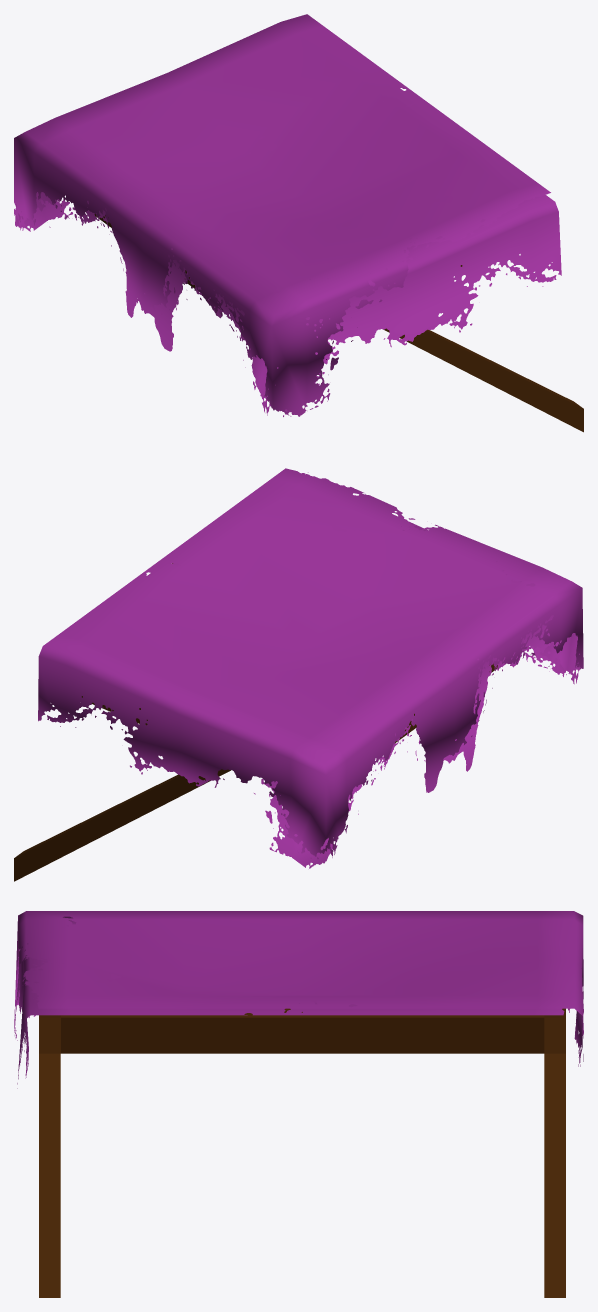
The model's file is H_addon_4.FBX.
The picture shows the model from 3 angles, top to bottom: view 1: azimuth 30°, elevation 25°; view 2: azimuth 150°, elevation 25°; view 3: azimuth 270°, elevation 25°; orthographic projection. The views are drawn at different scales.
Visible parts, largest first — view 1: Object261; view 2: Object261; view 3: Object261.
Part boxes in pixels (left/top/right/bottom): Object261: left=14, top=14, right=583, bottom=432; Object261: left=14, top=468, right=583, bottom=881; Object261: left=14, top=911, right=583, bottom=1297.
Bounding box in the file's own units: 178 × 131 × 249.
